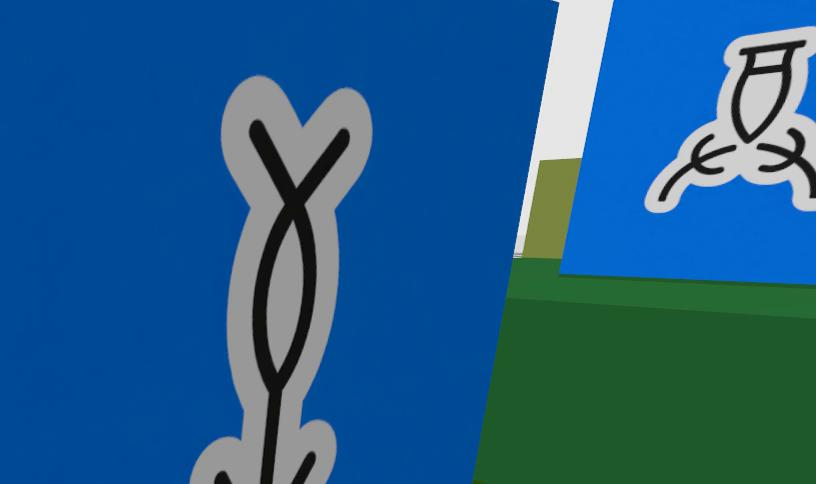KFS_REAL: (0, 0, 556, 484), (185, 76, 371, 484), (563, 0, 815, 285), (643, 27, 815, 213)
